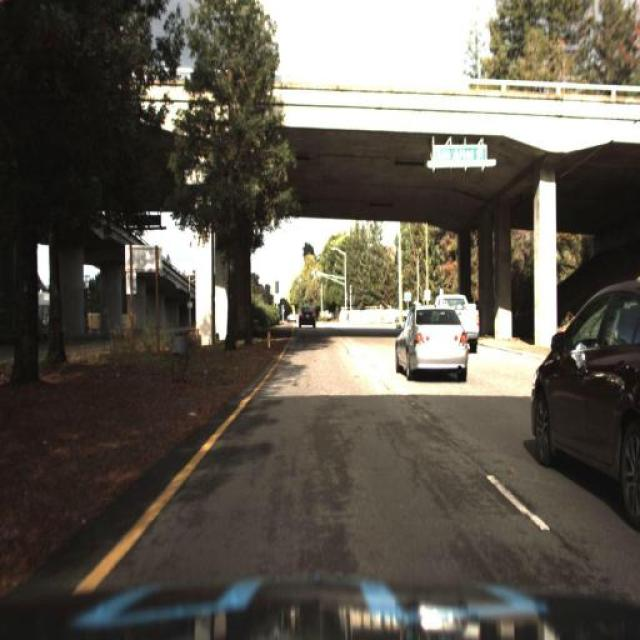car: (518, 278, 638, 492), (388, 300, 478, 380), (438, 289, 482, 345), (294, 302, 320, 328)
